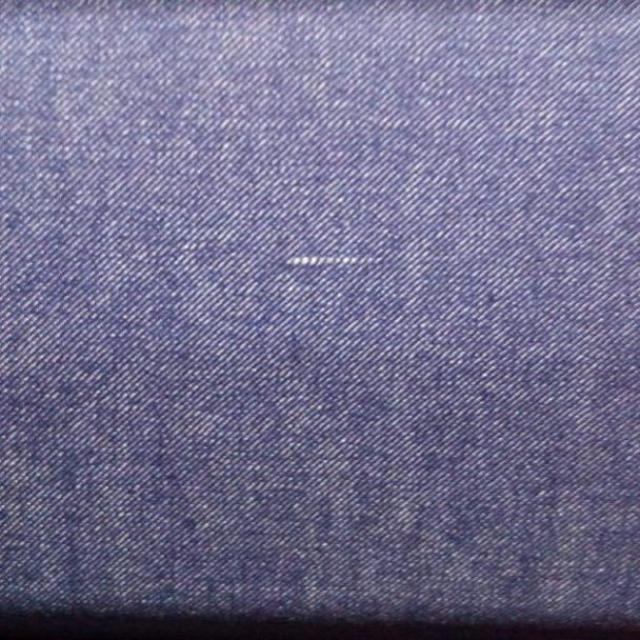Knot: (286, 256, 375, 267)
